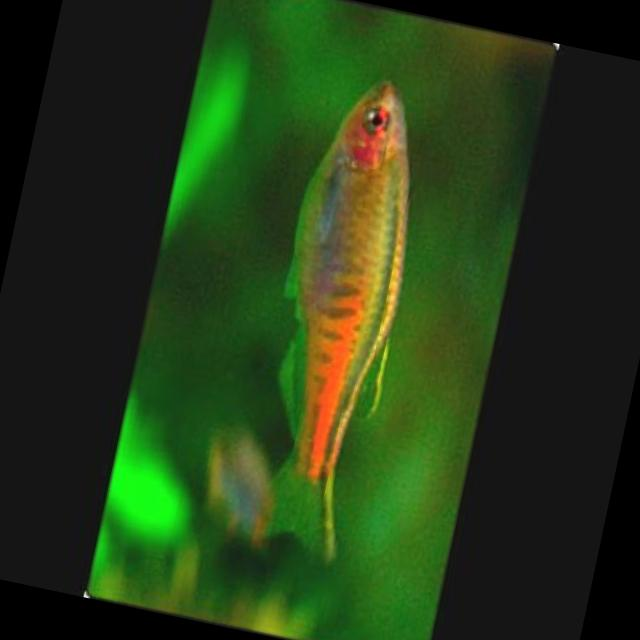ZebraFish: (230, 67, 450, 566)
